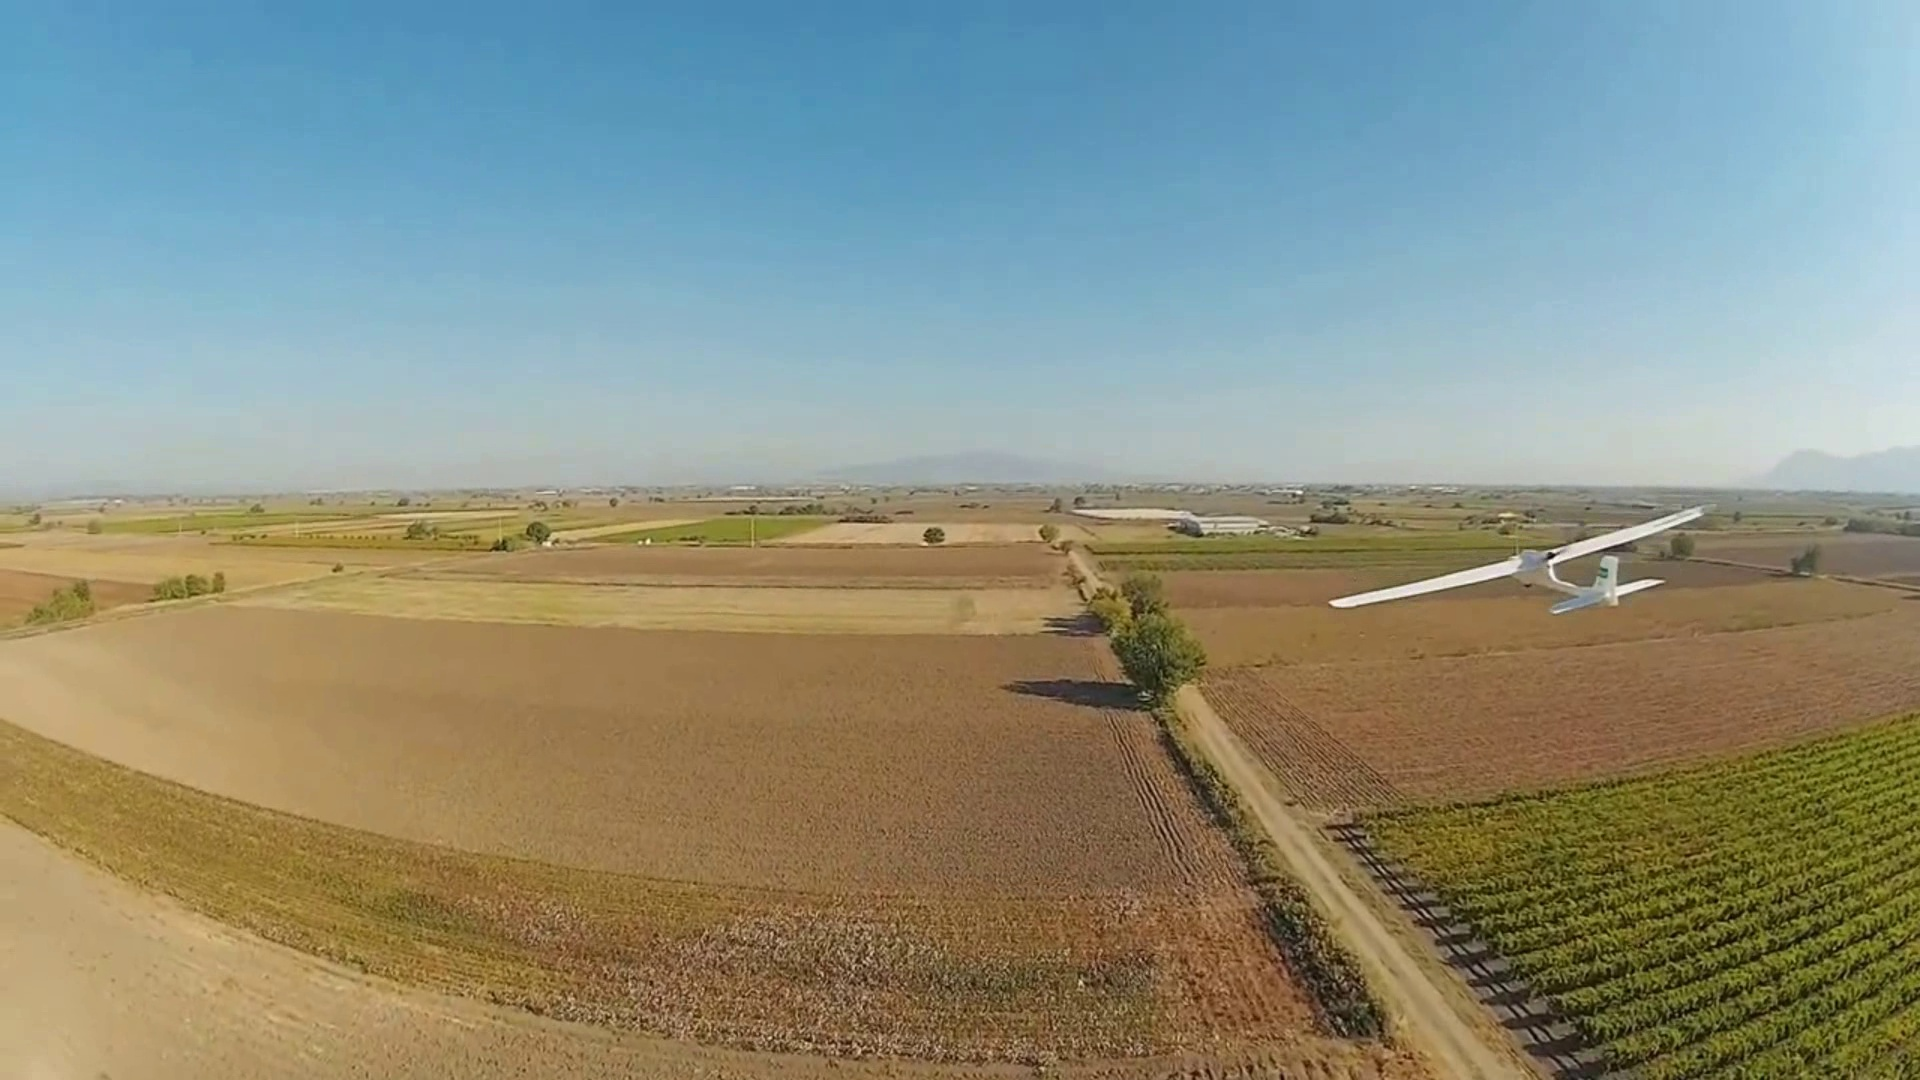airplane: (1331, 502, 1712, 615)
